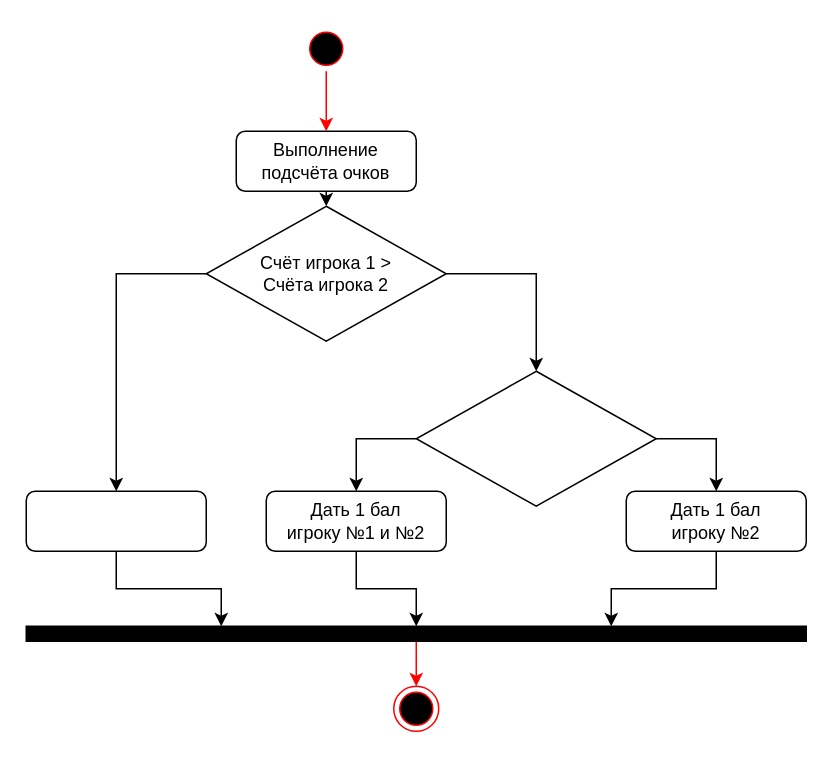
The diagram is 833 pixels wide and 758 high, and some of its shapes have lost their labels. Here are the shapes that lost their labels. From the top down, the box of each, then its label:
(415, 370, 656, 506): Счёт игрока 1 == Счёта игрока 2
(25, 490, 206, 551): Дать 1 бал игроку №1
